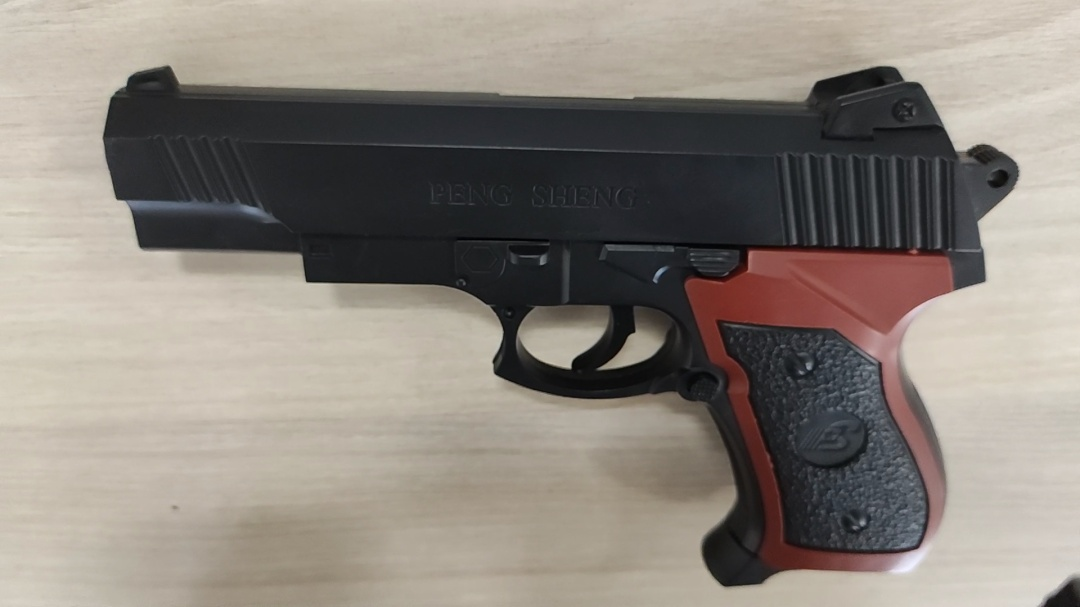gun: (194, 160, 539, 512)
